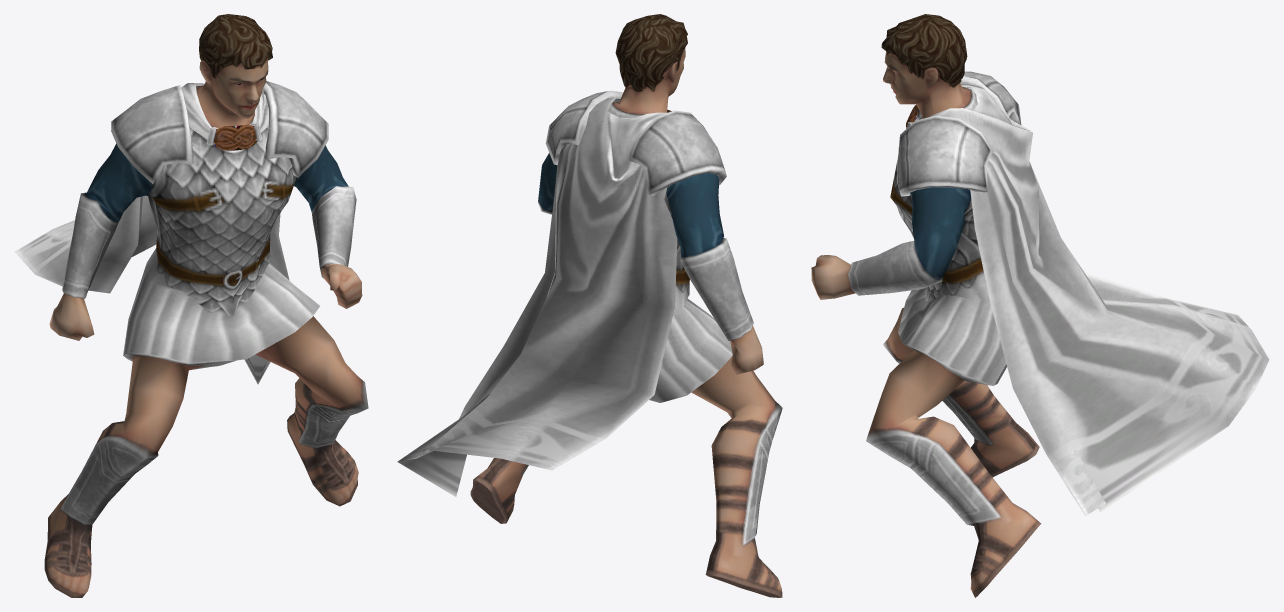
The model's file is rider-slice-heavycavalry.glb.
The picture shows the model from 3 angles, left to right: view 1: azimuth 30°, elevation 25°; view 2: azimuth 150°, elevation 25°; view 3: azimuth 270°, elevation 25°; orthographic projection. The views are drawn at different scales.
Bounding box in the file's own units: 1.14 × 1.94 × 1.51.
Materials: 1 (1 with a texture image).
